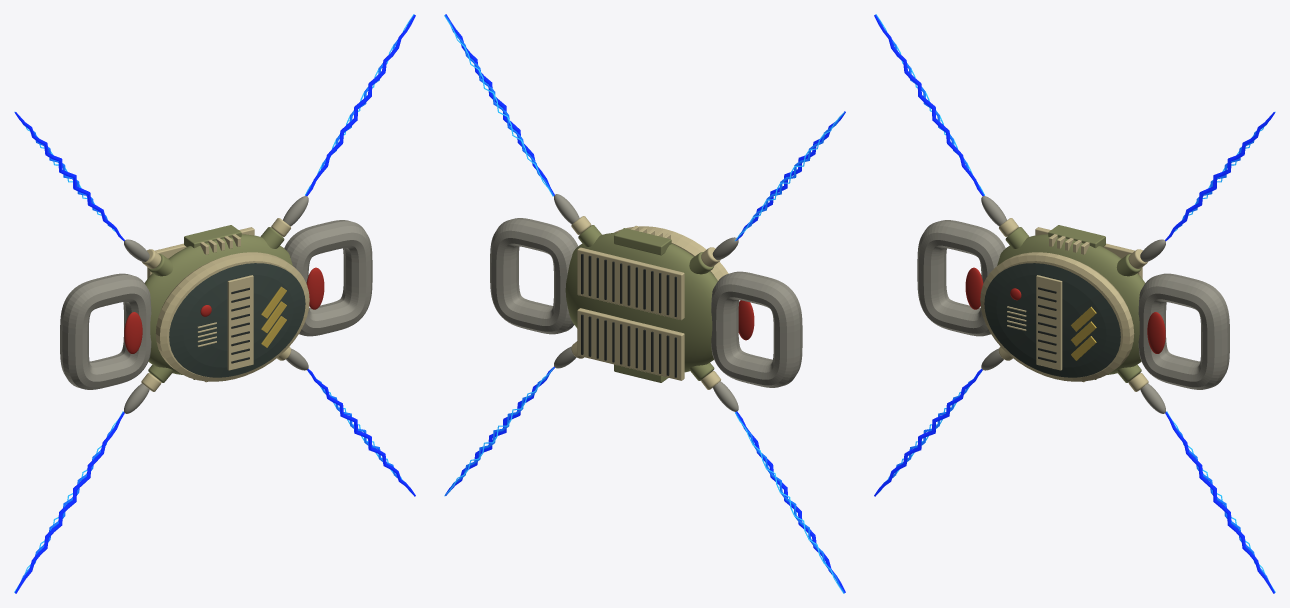
Rendered from building-armour.glb.
The picture shows the model from 3 angles, left to right: view 1: azimuth 30°, elevation 25°; view 2: azimuth 150°, elevation 25°; view 3: azimuth 330°, elevation 25°; orthographic projection.
Visible parts, largest first — view 1: Damage control monitoring face, Rounded side carry handle, Rounded side carry handle.001, Front pale armour bezel, Oval armour main casing, Central monitoring keypad, Solid only blue ionisation field, Solid only blue ionisation field.009, Solid only blue ionisation field.003, Solid only blue ionisation field.006, Rear rim bridge.001, Red grip coupling pad (+1 smaller); view 2: Rounded side carry handle, Rounded side carry handle.001, Oval armour main casing, Rear thermal transducer panel, Rear thermal transducer panel.001, Rear rim bridge.001, Front pale armour bezel, Solid only blue ionisation field.009, Solid only blue ionisation field, Red grip coupling pad, Solid only blue ionisation field.003; view 3: Damage control monitoring face, Rounded side carry handle.001, Rounded side carry handle, Front pale armour bezel, Oval armour main casing, Central monitoring keypad, Solid only blue ionisation field.006, Solid only blue ionisation field.003, Solid only blue ionisation field.009, Solid only blue ionisation field, Rear rim bridge.001, Red grip coupling pad.001 (+1 smaller).
Boxes of the visible parts, x1=… form: Damage control monitoring face: x1=169, y1=263, x2=305, y2=377; Rounded side carry handle: x1=60, y1=273, x2=151, y2=389; Rounded side carry handle.001: x1=284, y1=220, x2=372, y2=336; Front pale armour bezel: x1=155, y1=252, x2=309, y2=381; Oval armour main casing: x1=144, y1=234, x2=292, y2=374; Central monitoring keypad: x1=227, y1=275, x2=253, y2=370; Solid only blue ionisation field: x1=15, y1=412, x2=124, y2=593; Solid only blue ionisation field.009: x1=306, y1=15, x2=415, y2=196; Solid only blue ionisation field.003: x1=15, y1=112, x2=124, y2=240; Solid only blue ionisation field.006: x1=307, y1=369, x2=415, y2=496; Rear rim bridge.001: x1=184, y1=225, x2=241, y2=248; Red grip coupling pad: x1=124, y1=312, x2=142, y2=353; Rounded side carry handle: x1=711, y1=271, x2=802, y2=387; Rounded side carry handle.001: x1=490, y1=218, x2=578, y2=334; Oval armour main casing: x1=565, y1=232, x2=717, y2=372; Rear thermal transducer panel: x1=577, y1=308, x2=684, y2=380; Rear thermal transducer panel.001: x1=577, y1=247, x2=684, y2=320; Rear rim bridge.001: x1=614, y1=228, x2=671, y2=255; Front pale armour bezel: x1=614, y1=226, x2=728, y2=280; Solid only blue ionisation field.009: x1=445, y1=14, x2=554, y2=195; Solid only blue ionisation field: x1=736, y1=411, x2=845, y2=592; Red grip coupling pad: x1=738, y1=300, x2=754, y2=340; Solid only blue ionisation field.003: x1=736, y1=111, x2=845, y2=240; Damage control monitoring face: x1=984, y1=263, x2=1120, y2=377; Rounded side carry handle.001: x1=1138, y1=273, x2=1229, y2=389; Rounded side carry handle: x1=917, y1=220, x2=1005, y2=336; Front pale armour bezel: x1=980, y1=252, x2=1134, y2=381; Oval armour main casing: x1=997, y1=234, x2=1145, y2=374; Central monitoring keypad: x1=1036, y1=275, x2=1062, y2=370; Solid only blue ionisation field.006: x1=1165, y1=412, x2=1274, y2=593; Solid only blue ionisation field.003: x1=874, y1=15, x2=983, y2=196; Solid only blue ionisation field.009: x1=1165, y1=112, x2=1274, y2=240; Solid only blue ionisation field: x1=874, y1=369, x2=982, y2=496; Rear rim bridge.001: x1=1048, y1=225, x2=1105, y2=248; Red grip coupling pad.001: x1=1147, y1=312, x2=1165, y2=353.
Bounding box in the file's own units: 4.01 × 4.61 × 0.7545.
